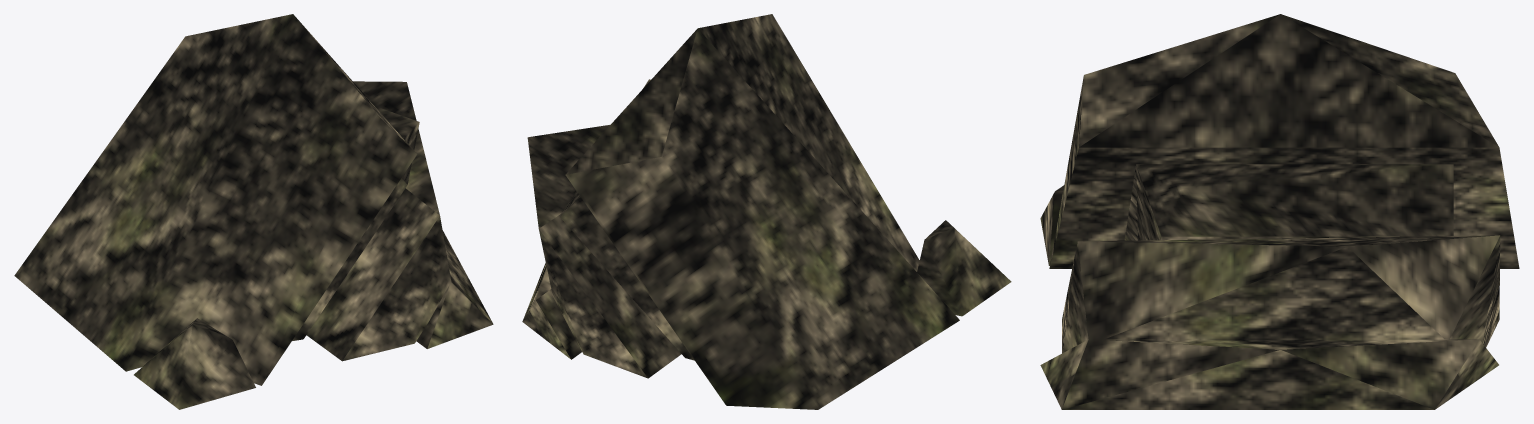
File: rock_tformation1.glb
3 views of the same model, side by side, from view 1: azimuth 30°, elevation 25°; view 2: azimuth 150°, elevation 25°; view 3: azimuth 270°, elevation 25° (orthographic). The views are drawn at different scales.
Visible parts, largest first — view 1: Rock_TFormation1; view 2: Rock_TFormation1; view 3: Rock_TFormation1.
Part boxes in pixels (bbox=[...]): Rock_TFormation1: bbox=[14, 14, 493, 409]; Rock_TFormation1: bbox=[522, 14, 1011, 409]; Rock_TFormation1: bbox=[1040, 14, 1519, 409].
Size of the model in its own units: 25.13 by 18.4 by 24.16.
Materials: 1 (1 with a texture image).
